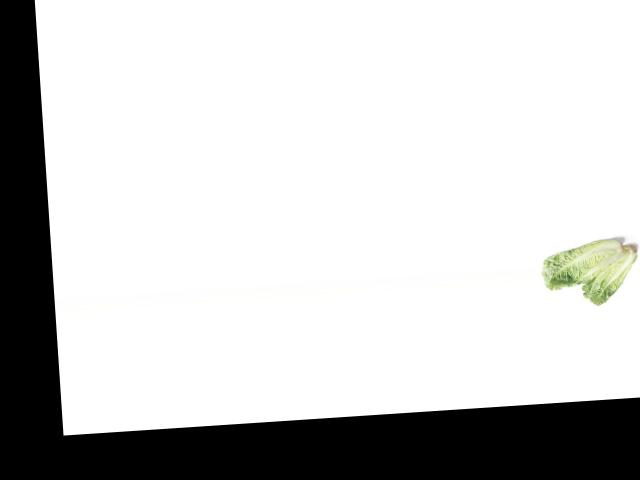lettuce: (578, 241, 640, 307)
